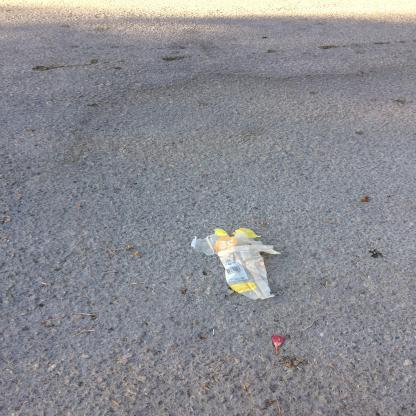plastik: (190, 228, 282, 300)
